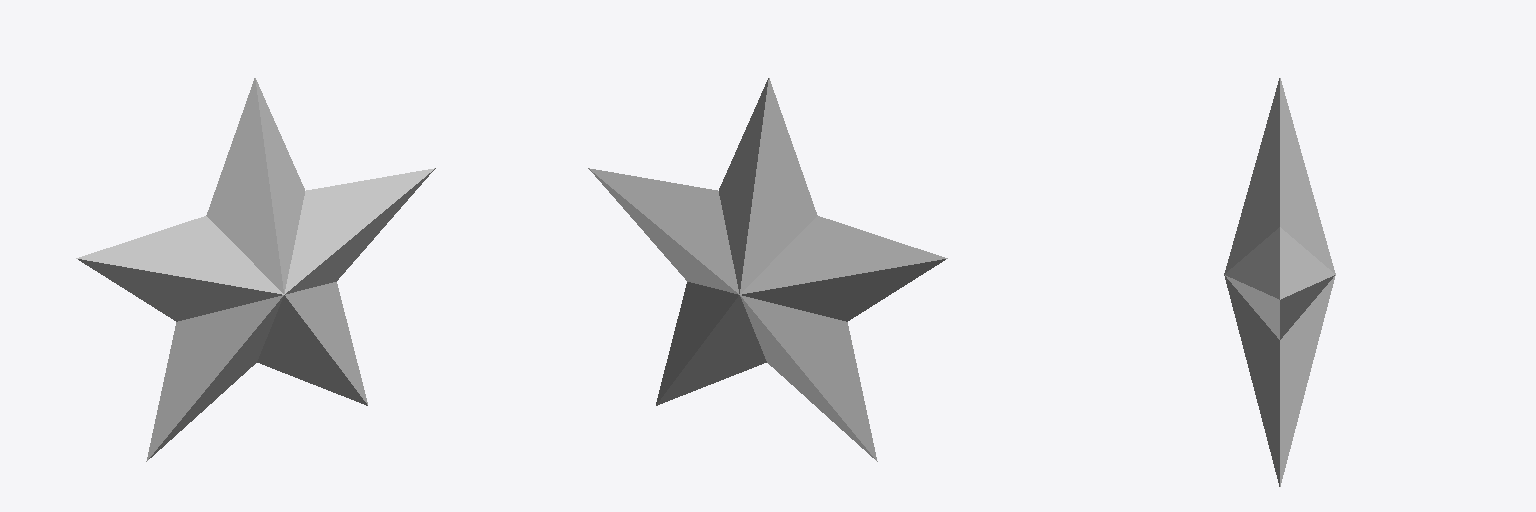
The model's file is star.obj.
3 views of the same model, side by side, from view 1: azimuth 30°, elevation 25°; view 2: azimuth 150°, elevation 25°; view 3: azimuth 270°, elevation 25° (orthographic).
Parts seen in each view (by area): view 1: Star; view 2: Star; view 3: Star.
Boxes of the visible parts, <box> form: Star: <box>76,78,435,461</box>; Star: <box>588,78,947,461</box>; Star: <box>1224,78,1335,486</box>.
Size of the model in its own units: 246 by 235 by 66.19.